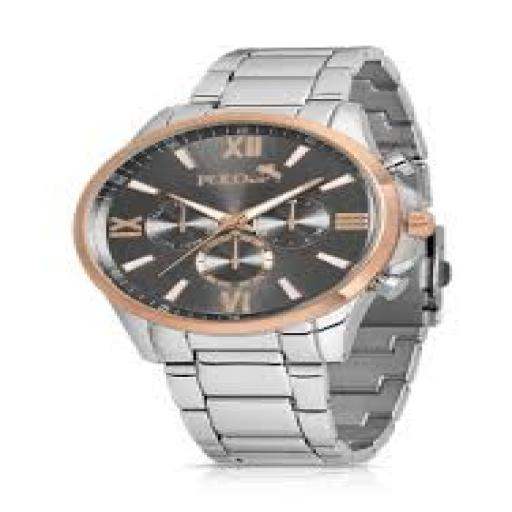KolSaati: (28, 20, 507, 479)
